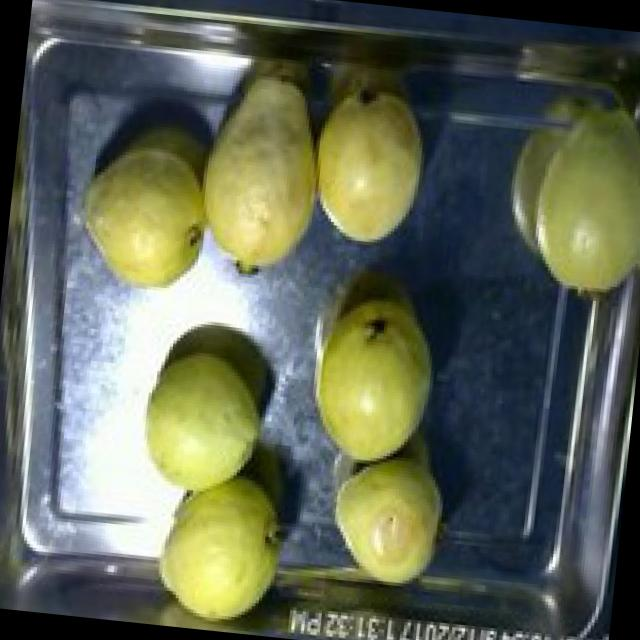Fruit: (182, 57, 340, 297), (489, 79, 640, 312), (292, 280, 452, 480), (62, 115, 224, 308), (121, 327, 276, 510), (140, 451, 292, 637), (308, 76, 441, 260), (312, 440, 460, 597)
